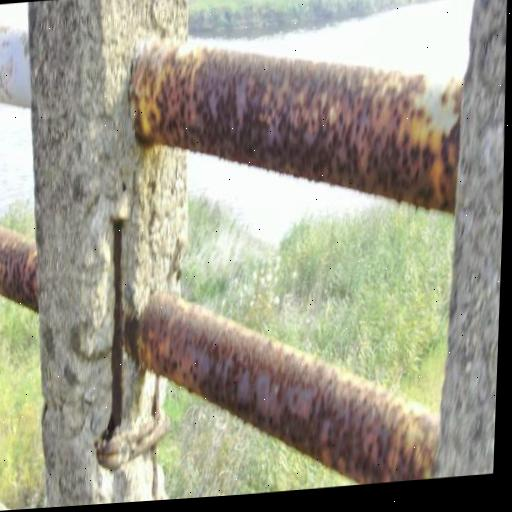exposed_rebar: (106, 219, 123, 440)
